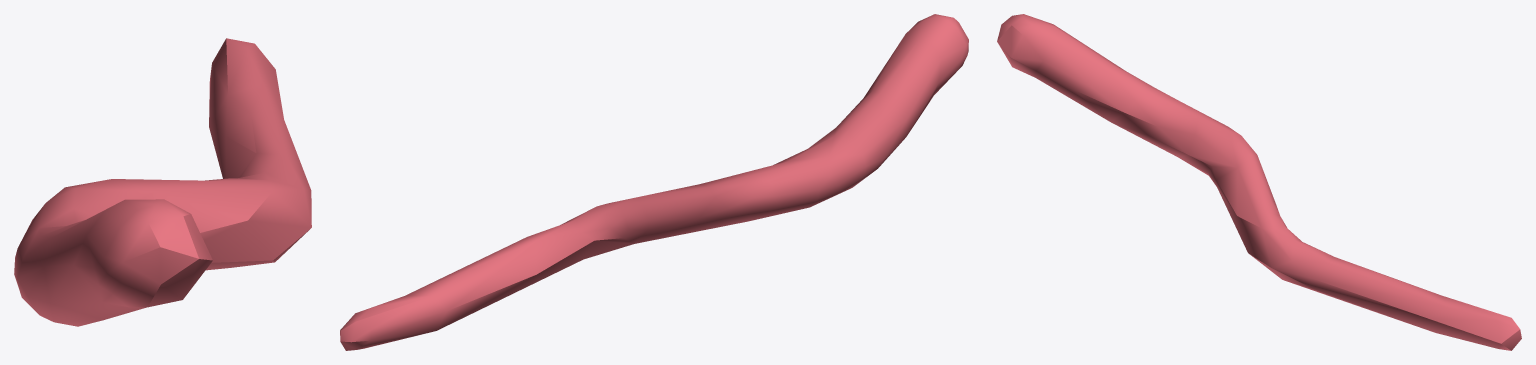
Rendered from fma4713_fj2689.glb.
The picture shows the model from 3 angles, left to right: view 1: azimuth 30°, elevation 25°; view 2: azimuth 150°, elevation 25°; view 3: azimuth 270°, elevation 25°; orthographic projection. The views are drawn at different scales.
Visible parts, largest first — view 1: FMA4713_FJ2689; view 2: FMA4713_FJ2689; view 3: FMA4713_FJ2689.
Boxes of the visible parts, x1,y1,x2,y2 form: FMA4713_FJ2689: (14,38,311,326); FMA4713_FJ2689: (340,14,968,350); FMA4713_FJ2689: (997,14,1521,350).
Bounding box in the file's own units: 0.00721 × 0.00408 × 0.0101.
